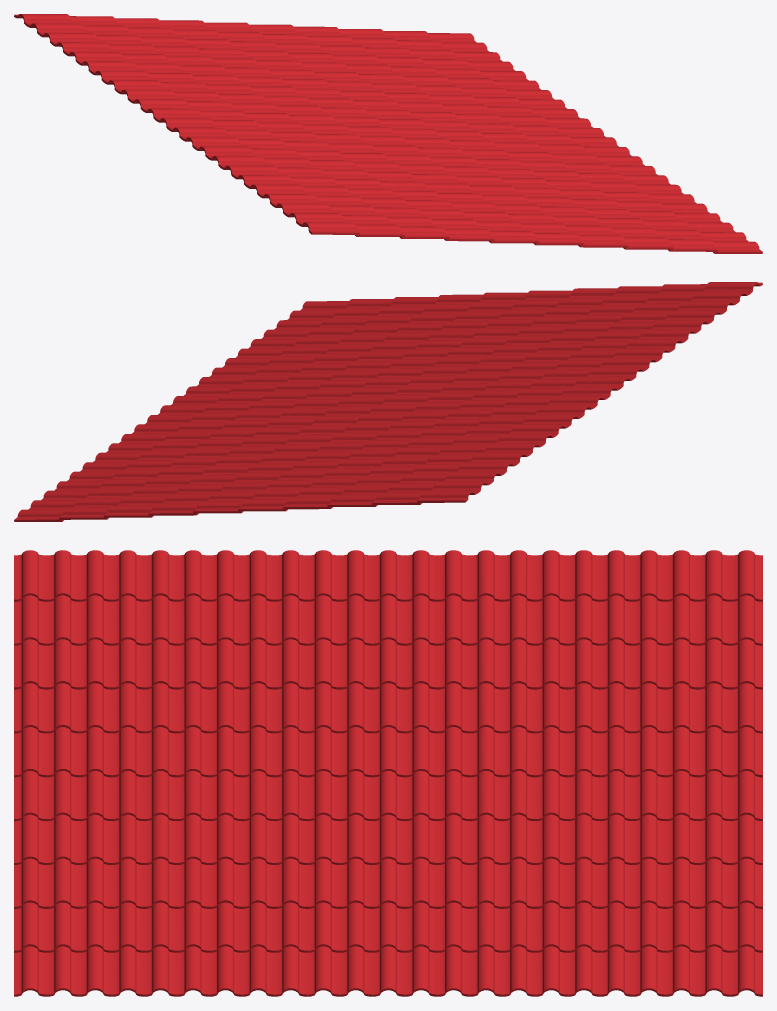
Rendered from adamante1.glb.
3 views of the same model, one above another, from view 1: azimuth 30°, elevation 25°; view 2: azimuth 150°, elevation 25°; view 3: azimuth 270°, elevation 25° (orthographic). The views are drawn at different scales.
Visible parts, largest first — view 1: ADAMANTE EV1; view 2: ADAMANTE EV1; view 3: ADAMANTE EV1.
Part boxes in pixels (x1,y1,x2,y2): ADAMANTE EV1: (14,14,762,253); ADAMANTE EV1: (14,282,762,521); ADAMANTE EV1: (14,550,762,996).
Size of the model in its own units: 13.69 by 3.93 by 15.64.
